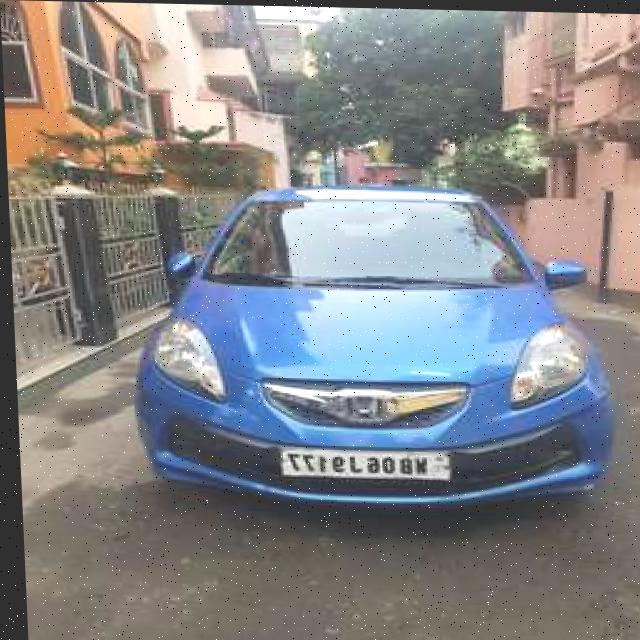plate: (275, 446, 449, 480)
